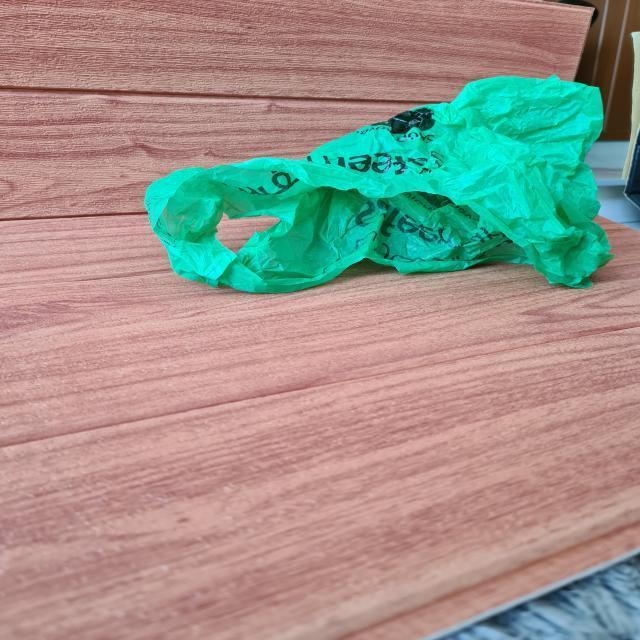Plastic_Bag: (167, 70, 608, 296)
